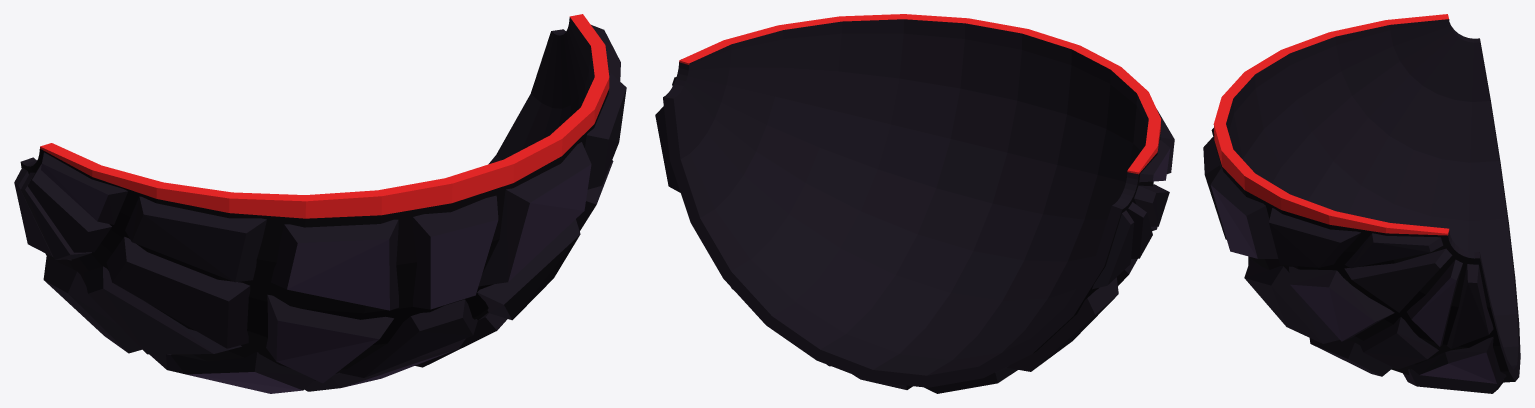
File: BossEyeLidBottom.obj
The picture shows the model from 3 angles, left to right: view 1: azimuth 30°, elevation 25°; view 2: azimuth 150°, elevation 25°; view 3: azimuth 270°, elevation 25°; orthographic projection. The views are drawn at different scales.
Parts seen in each view (by area): view 1: BossEyeLidBottom; view 2: BossEyeLidBottom; view 3: BossEyeLidBottom.
Part boxes in pixels (x1=…): BossEyeLidBottom: x1=14, y1=14, x2=626, y2=393; BossEyeLidBottom: x1=655, y1=14, x2=1174, y2=393; BossEyeLidBottom: x1=1203, y1=14, x2=1520, y2=393.
Bounding box in the file's own units: 5.39 × 2.64 × 3.13.
